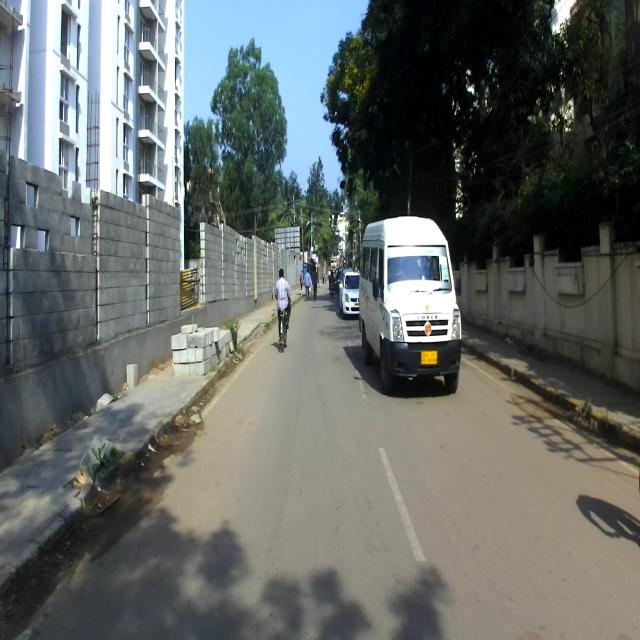bicycle ahead at: (272, 267, 296, 356)
bus ahead at: (362, 222, 461, 387)
stones ahead at: (169, 321, 224, 384)
